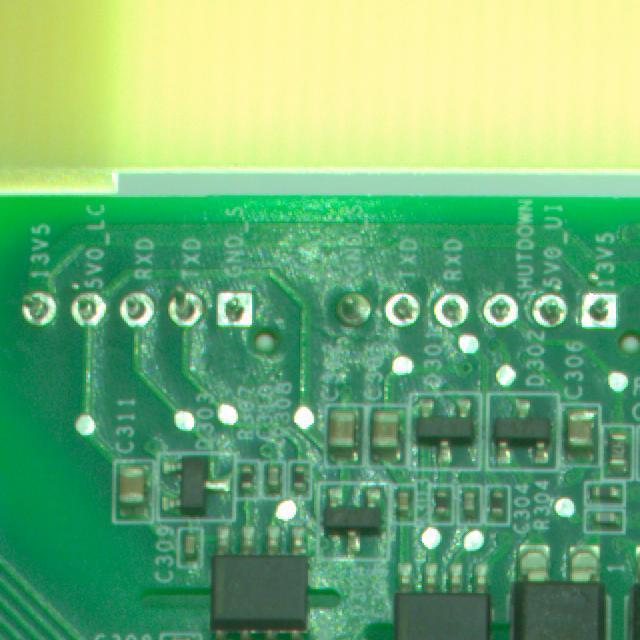Insufficient solder: (582, 289, 630, 349), (165, 282, 213, 340), (218, 289, 268, 343), (116, 290, 162, 346), (16, 281, 65, 332), (69, 287, 116, 336), (383, 281, 422, 338), (480, 288, 522, 339), (530, 289, 571, 341), (431, 290, 469, 335)
